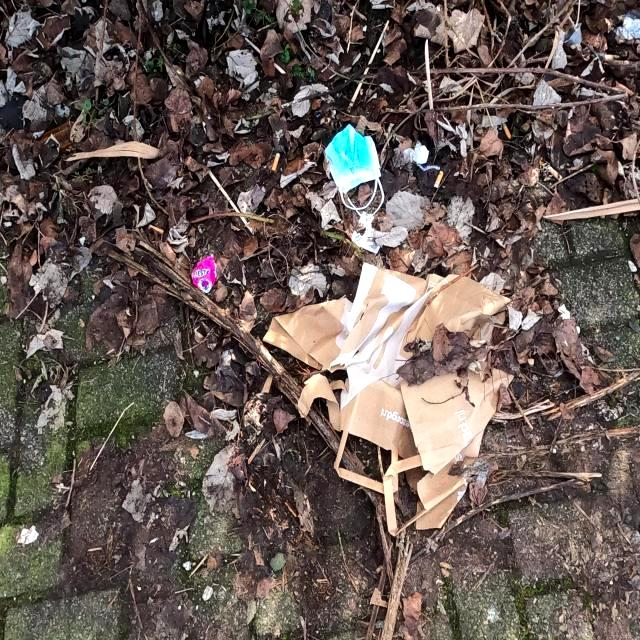Mask: (325, 116, 393, 210)
